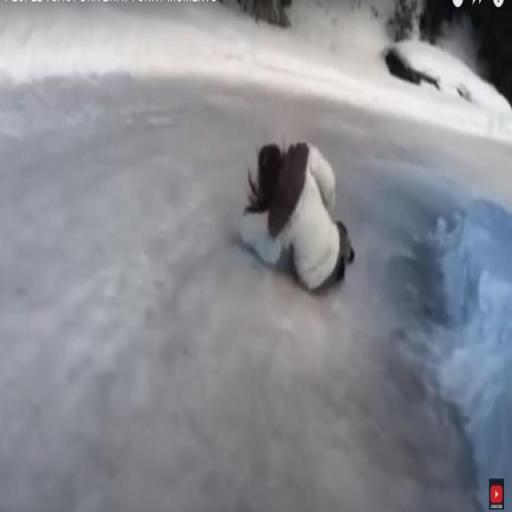Fall: (236, 137, 355, 296), (43, 0, 223, 4), (446, 0, 511, 6)
